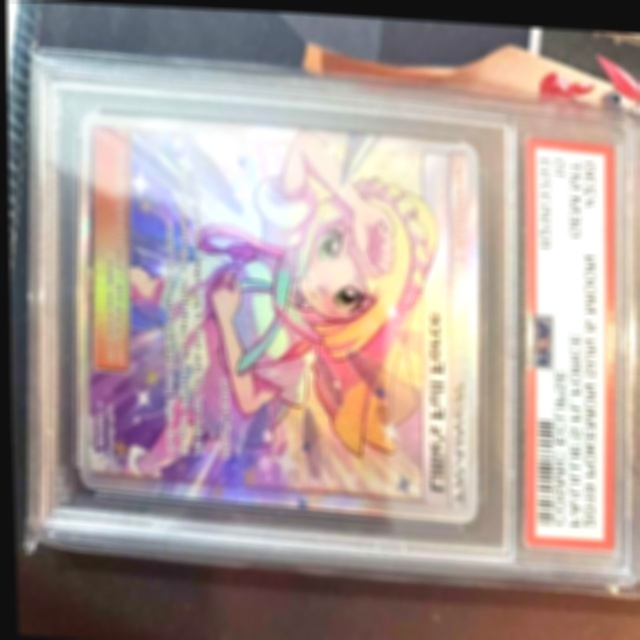card: (75, 110, 477, 519)
